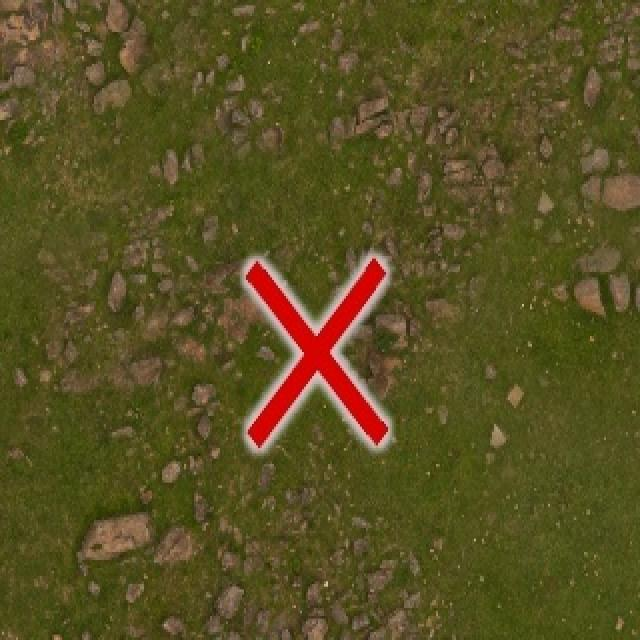x_marker: (245, 257, 387, 447)
